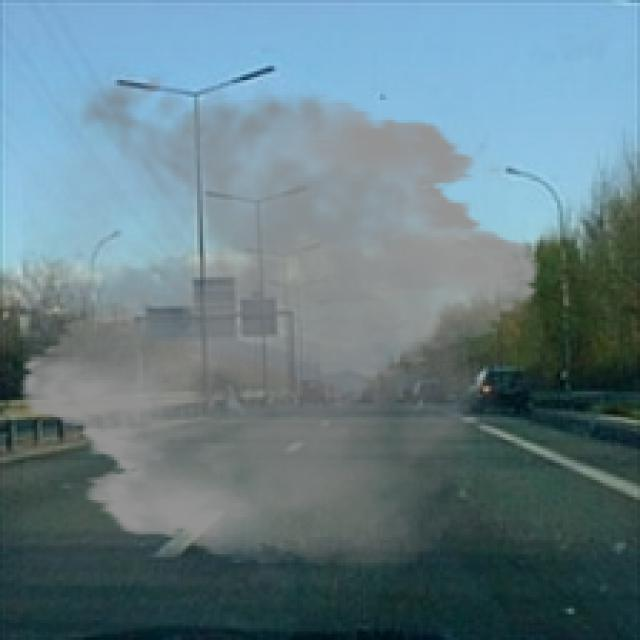smoke: (3, 57, 557, 586)
